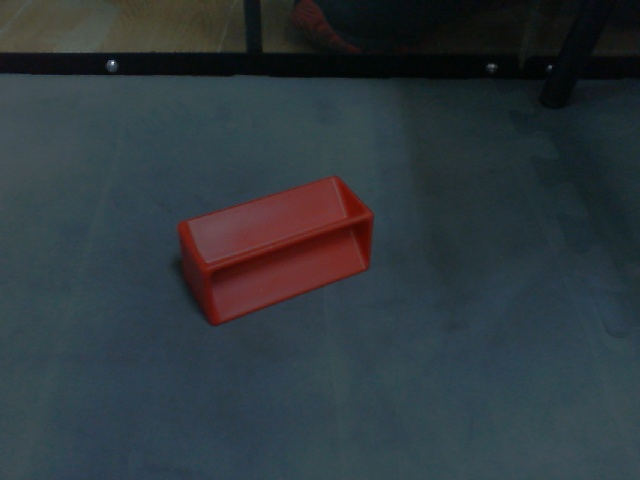RedSample: (175, 172, 378, 328)
